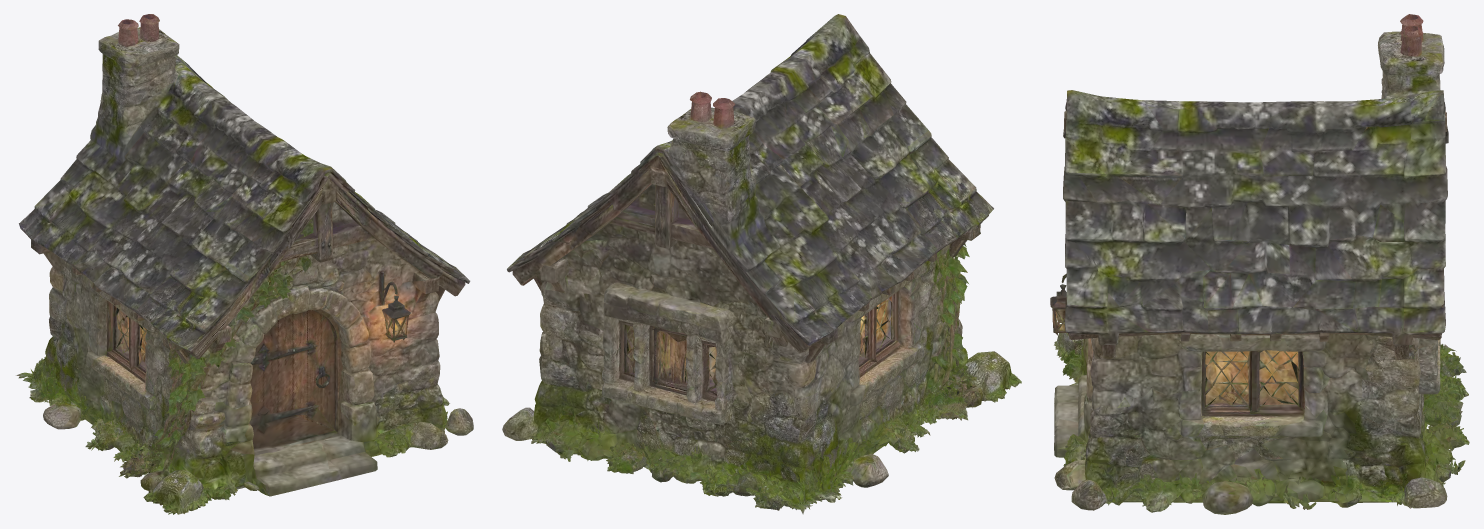
Rendered from cottage.glb.
3 renders of one model, left to right at view 1: azimuth 30°, elevation 25°; view 2: azimuth 150°, elevation 25°; view 3: azimuth 270°, elevation 25°, orthographic. The views are drawn at different scales.
Visible parts, largest first — view 1: Mesh_0; view 2: Mesh_0; view 3: Mesh_0.
Part boxes in pixels (box(x1,y1,x2,y2)): Mesh_0: box(16, 14, 473, 514); Mesh_0: box(502, 14, 1021, 514); Mesh_0: box(1050, 14, 1469, 514).
Size of the model in its own units: 1.86 by 1.9 by 1.84.
Materials: 1 (1 with a texture image).
